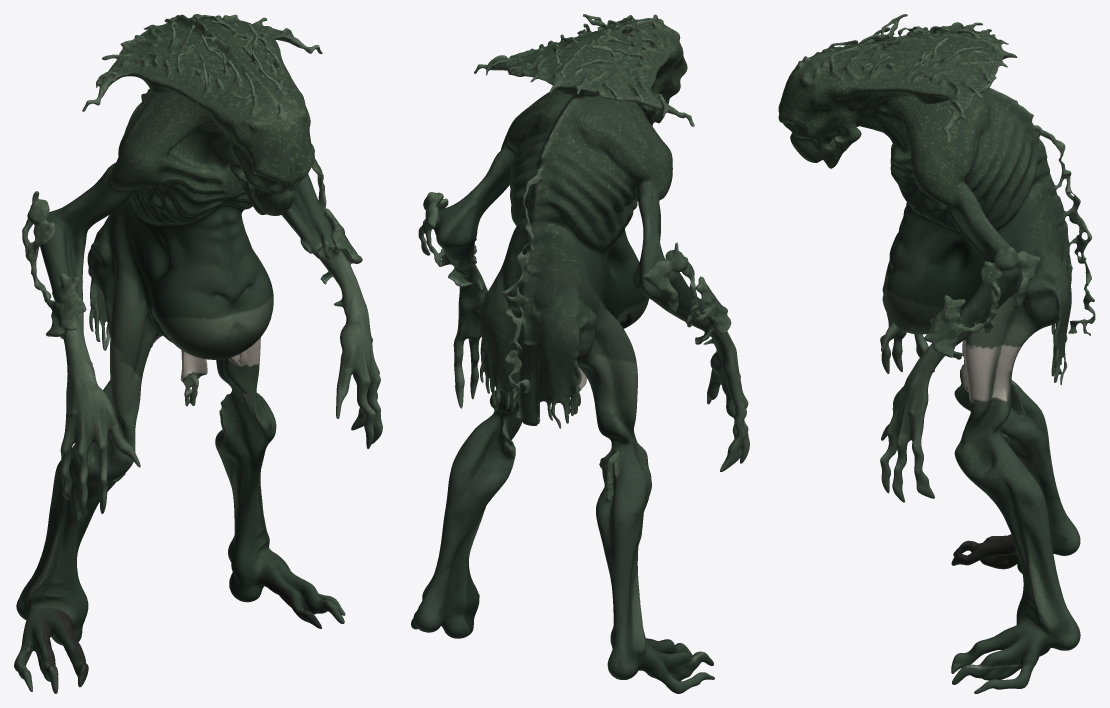
Rendered from rotmother.glb.
3 renders of one model, left to right at view 1: azimuth 30°, elevation 25°; view 2: azimuth 150°, elevation 25°; view 3: azimuth 270°, elevation 25°, orthographic. The views are drawn at different scales.
Bounding box in the file's own units: 0.9666 × 1.9 × 0.9081.
Materials: 1 (1 with a texture image).
